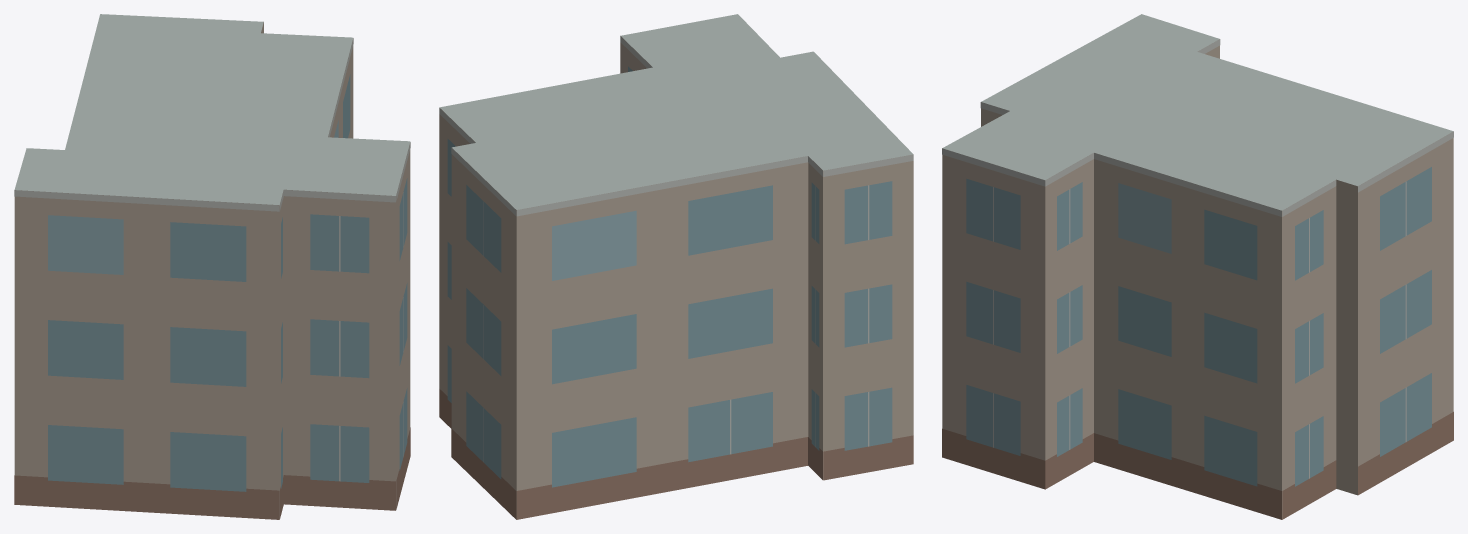
The model's file is survey-upis-32471895.glb.
3 views of the same model, side by side, from view 1: azimuth 30°, elevation 25°; view 2: azimuth 150°, elevation 25°; view 3: azimuth 270°, elevation 25° (orthographic).
Visible parts, largest first — view 1: survey-upis-32471895.tmp; view 2: survey-upis-32471895.tmp; view 3: survey-upis-32471895.tmp.
Part boxes in pixels (bbox=[...]): survey-upis-32471895.tmp: bbox=[14, 14, 410, 519]; survey-upis-32471895.tmp: bbox=[439, 14, 913, 519]; survey-upis-32471895.tmp: bbox=[942, 14, 1453, 519].
Bounding box in the file's own units: 16.17 × 11.84 × 17.77.
